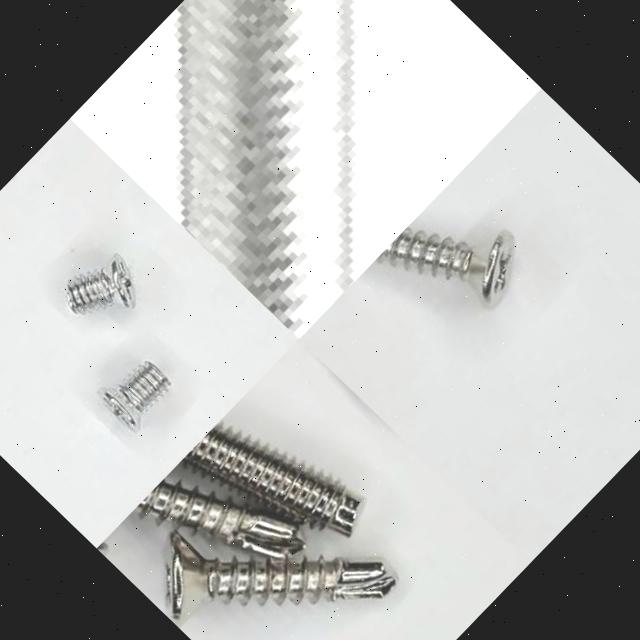Screw: (175, 0, 359, 339), (167, 532, 397, 623), (180, 423, 360, 536), (134, 481, 301, 559), (377, 228, 515, 302), (98, 361, 172, 432), (67, 254, 135, 315)
